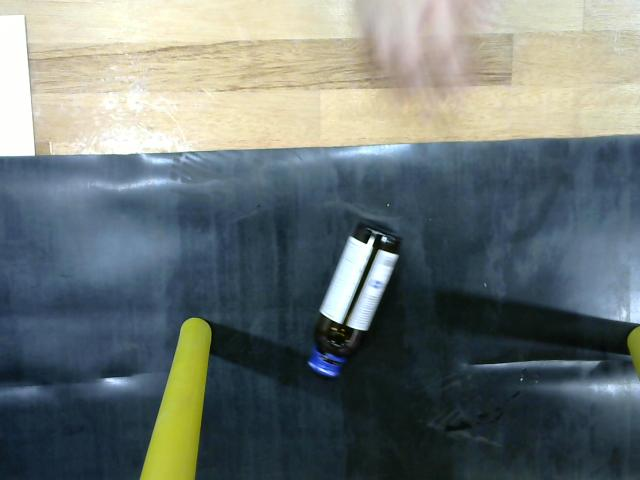glass: (305, 223, 410, 385)
